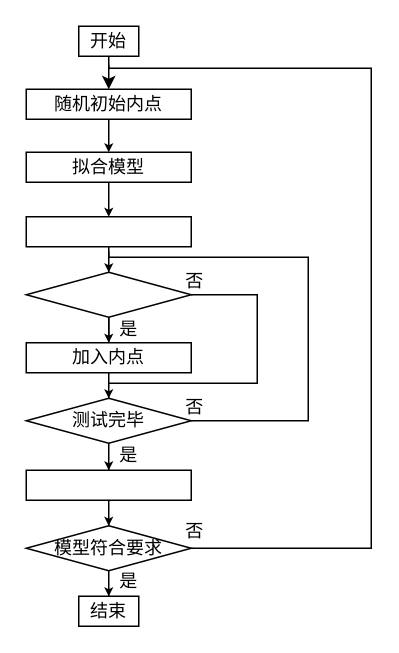
Some shapes in this 399 by 653 pixel diagram are drawn without their labels. The shapes that lost their labels are listed below. From the top down, each one's centre as x and y in pixels, then its label:
At (x=108, y=231): "测试其余数据".
At (x=108, y=294): "数据符合模型".
At (x=108, y=484): "重新拟合模型".
